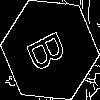B: (25, 25, 76, 75)
